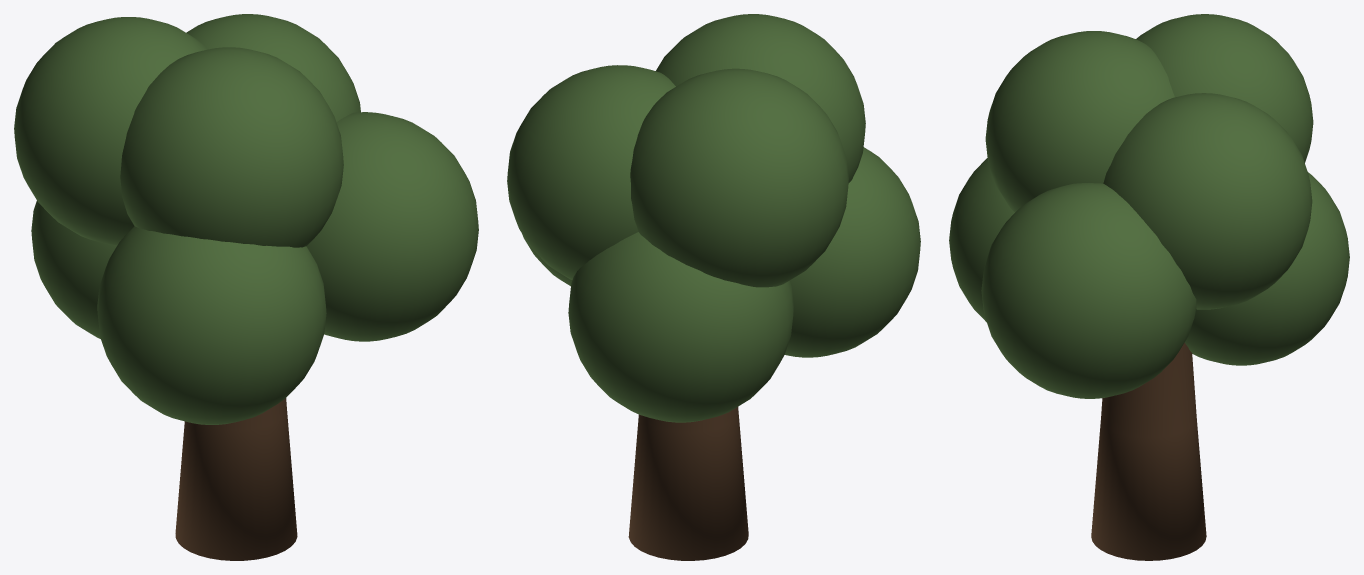
The model's file is tree01.glb.
3 renders of one model, left to right at view 1: azimuth 30°, elevation 25°; view 2: azimuth 150°, elevation 25°; view 3: azimuth 270°, elevation 25°, orthographic. The views are drawn at different scales.
Visible parts, largest first — view 1: Tree; view 2: Tree; view 3: Tree.
Part boxes in pixels (bbox=[...]): Tree: bbox=[14, 14, 478, 560]; Tree: bbox=[507, 14, 920, 560]; Tree: bbox=[949, 14, 1349, 560].
Bounding box in the file's own units: 6.19 × 8.03 × 6.09.
